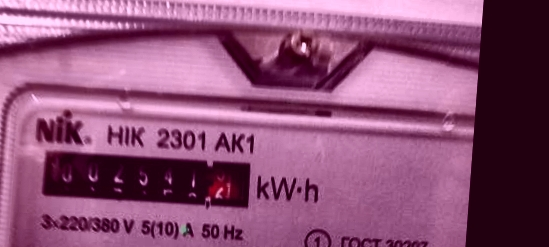0: (56, 157, 76, 184), (84, 156, 100, 184)
1: (184, 162, 199, 189)
2: (109, 158, 126, 184)
4: (161, 161, 175, 185)
5: (133, 159, 153, 188)
6: (211, 180, 227, 200)
screen: (29, 133, 266, 221)
